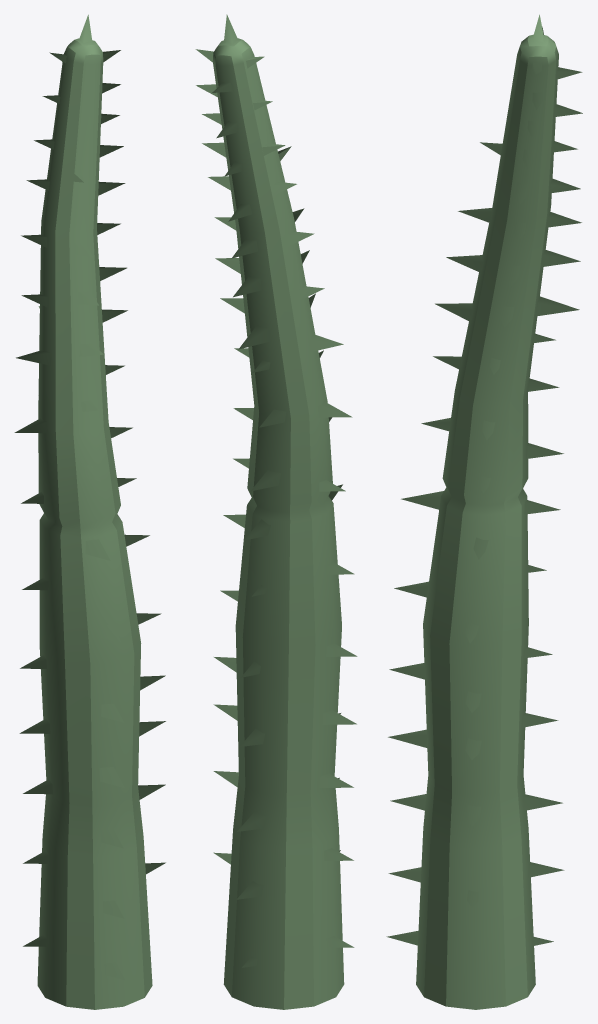
Rendered from Cactus_2.fbx.
The picture shows the model from 3 angles, left to right: view 1: azimuth 30°, elevation 25°; view 2: azimuth 150°, elevation 25°; view 3: azimuth 270°, elevation 25°; orthographic projection. The views are drawn at different scales.
Parts seen in each view (by area): view 1: cactus_; view 2: cactus_; view 3: cactus_.
Part boxes in pixels (x1=…): cactus_: x1=14, y1=14, x2=165, y2=1009; cactus_: x1=195, y1=14, x2=357, y2=1009; cactus_: x1=386, y1=14, x2=582, y2=1009.
Size of the model in its own units: 0.7321 by 4.62 by 0.8424.
